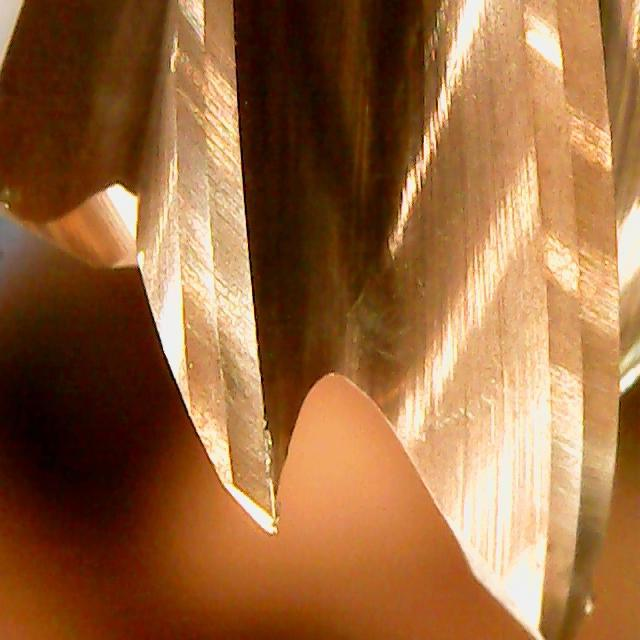Tool-wear-class-1: (153, 223, 308, 542)
